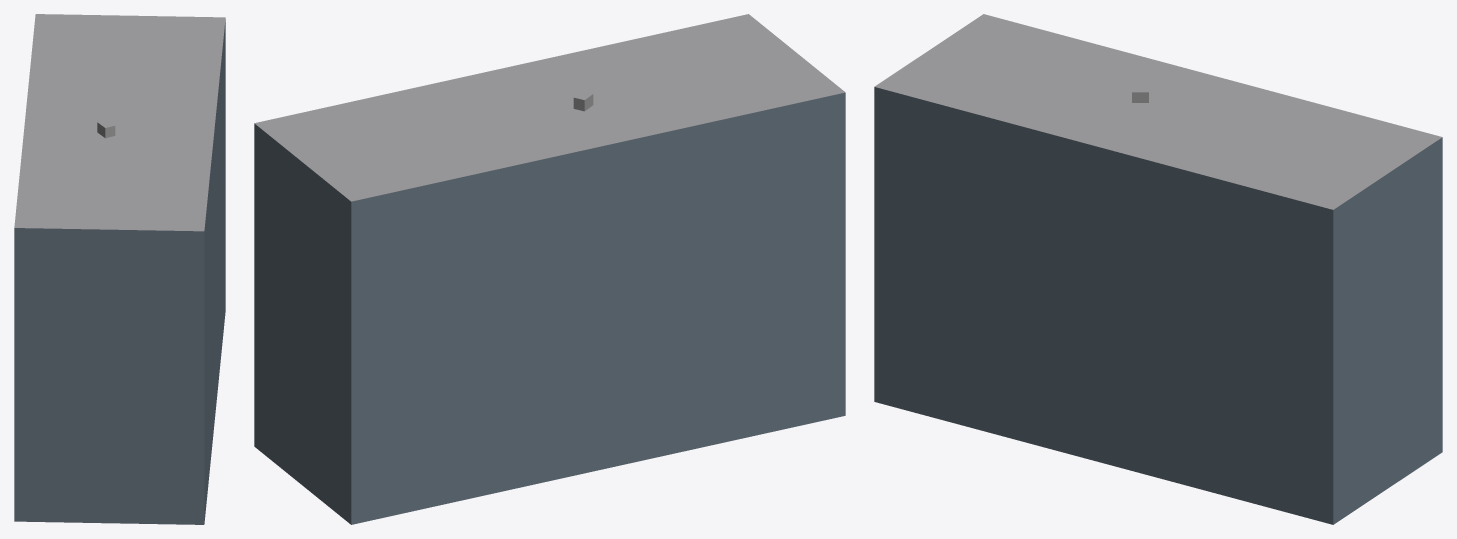
File: building_-3_-3.glb
3 views of the same model, side by side, from view 1: azimuth 30°, elevation 25°; view 2: azimuth 150°, elevation 25°; view 3: azimuth 270°, elevation 25° (orthographic). The views are drawn at different scales.
Parts seen in each view (by area): view 1: glass_dark, roof; view 2: glass_dark, roof; view 3: glass_dark, roof.
Part boxes in pixels (x1,y1,x2,y2): glass_dark: (14,19,225,524); roof: (14,14,225,231); glass_dark: (254,92,845,524); roof: (254,14,845,201); glass_dark: (874,87,1442,524); roof: (874,14,1442,209).
Bounding box in the file's own units: 68.03 × 52.77 × 83.4.
